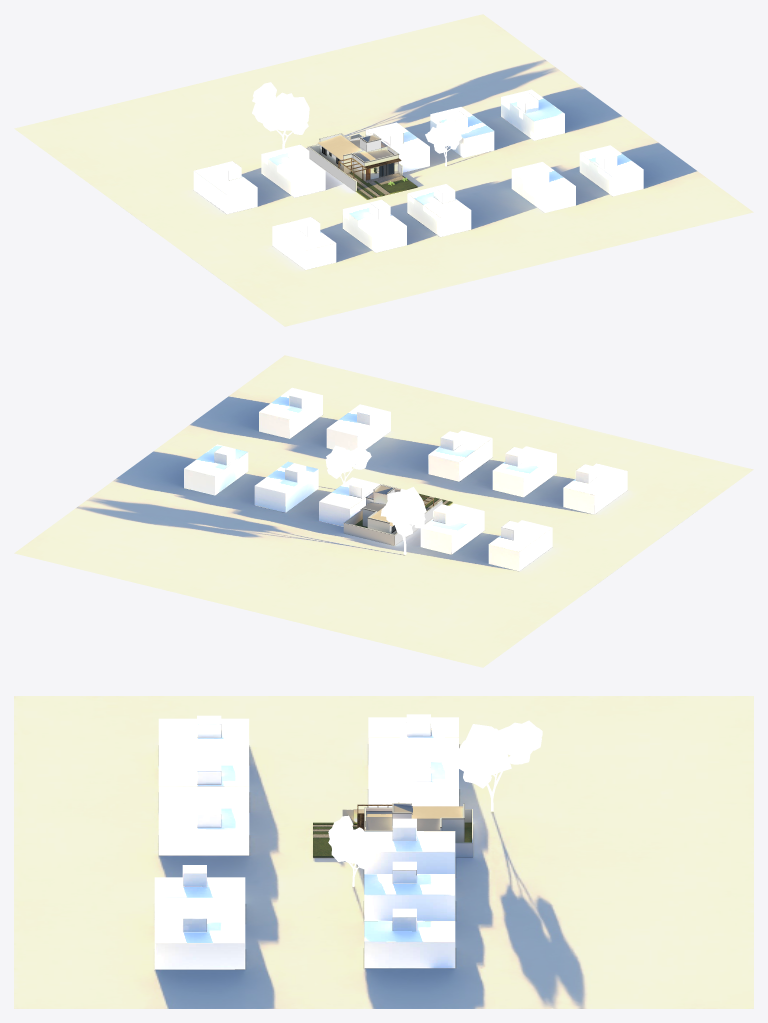
The model's file is houses15.glb.
The picture shows the model from 3 angles, top to bottom: view 1: azimuth 30°, elevation 25°; view 2: azimuth 150°, elevation 25°; view 3: azimuth 270°, elevation 25°; orthographic projection. The views are drawn at different scales.
Parts seen in each view (by area): view 1: piso-geral, outras-casas, Crown, ParedesExternas, Laje, Crown.001, paredes-externas-casa, grama; view 2: piso-geral, outras-casas, Crown, paredes-externas-casa, Crown.001, ParedesExternas; view 3: piso-geral, outras-casas, Crown, Crown.001, Laje, grama, ParedesExternas, paredes-externas-casa.
Part boxes in pixels (x1=…): piso-geral: x1=14, y1=14, x2=753, y2=326; outras-casas: x1=193, y1=89, x2=643, y2=269; Crown: x1=252, y1=82, x2=309, y2=134; ParedesExternas: x1=319, y1=133, x2=402, y2=180; Laje: x1=317, y1=135, x2=393, y2=161; Crown.001: x1=425, y1=120, x2=461, y2=153; paredes-externas-casa: x1=307, y1=134, x2=361, y2=191; grama: x1=349, y1=172, x2=417, y2=199; piso-geral: x1=14, y1=355, x2=753, y2=667; outras-casas: x1=184, y1=387, x2=627, y2=571; Crown: x1=381, y1=487, x2=426, y2=536; paredes-externas-casa: x1=343, y1=500, x2=442, y2=545; Crown.001: x1=325, y1=445, x2=371, y2=478; ParedesExternas: x1=362, y1=485, x2=397, y2=534; piso-geral: x1=14, y1=696, x2=753, y2=1008; outras-casas: x1=154, y1=714, x2=458, y2=969; Crown: x1=455, y1=720, x2=542, y2=788; Crown.001: x1=328, y1=815, x2=377, y2=869; Laje: x1=366, y1=804, x2=463, y2=830; grama: x1=313, y1=822, x2=471, y2=857; ParedesExternas: x1=392, y1=804, x2=464, y2=842; paredes-externas-casa: x1=342, y1=809, x2=472, y2=857.
Size of the model in its own units: 92.85 by 12.41 by 92.85.
Materials: 26 (13 with a texture image).
